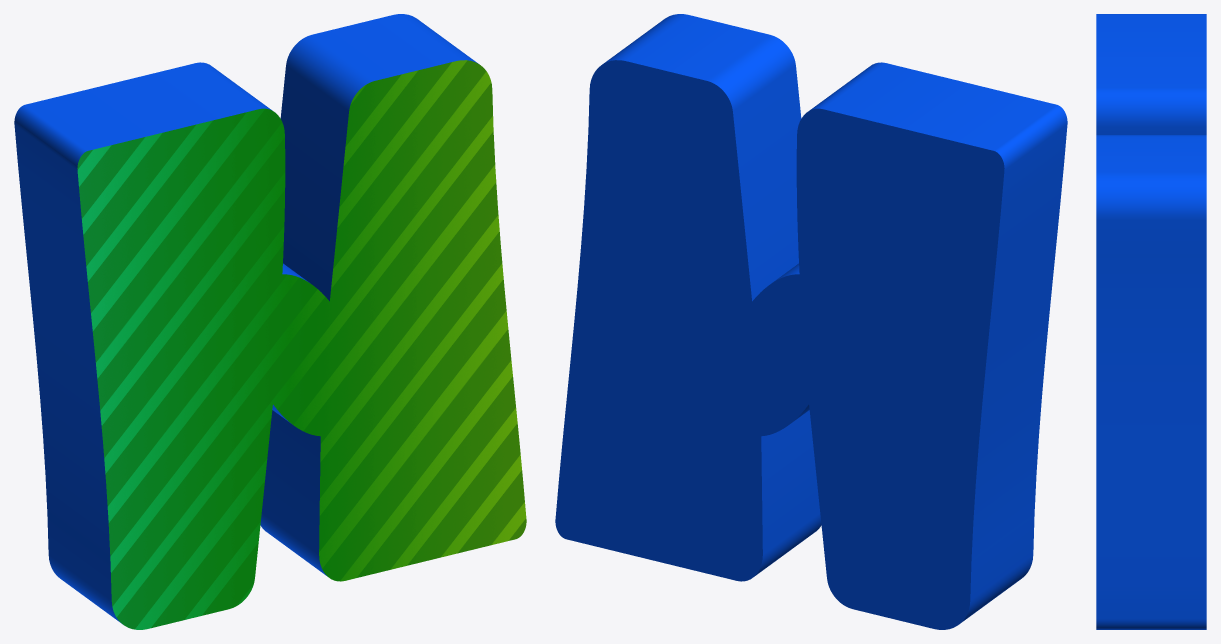
The picture shows the model from 3 angles, left to right: view 1: azimuth 30°, elevation 25°; view 2: azimuth 150°, elevation 25°; view 3: azimuth 270°, elevation 25°; orthographic projection. The views are drawn at different scales.
Visible parts, largest first — view 1: H; view 2: H; view 3: H.
Part boxes in pixels (x1,y1,x2,y2): H: [14, 14, 526, 629]; H: [555, 14, 1067, 629]; H: [1096, 14, 1206, 629].
Size of the model in its own units: 82.25 by 86.23 by 20.
Materials: 2 (1 with a texture image).
